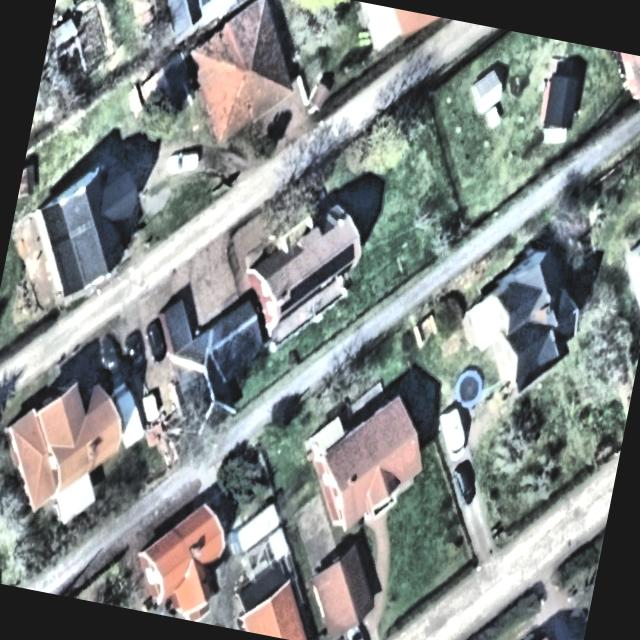roof_pv: (326, 239, 358, 285), (275, 276, 303, 326), (301, 250, 330, 298)
